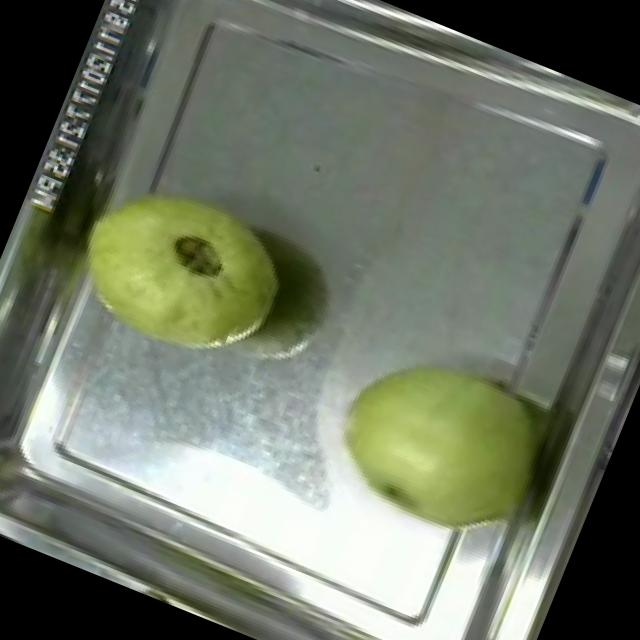Fruit: (306, 318, 572, 570), (52, 148, 312, 387)
